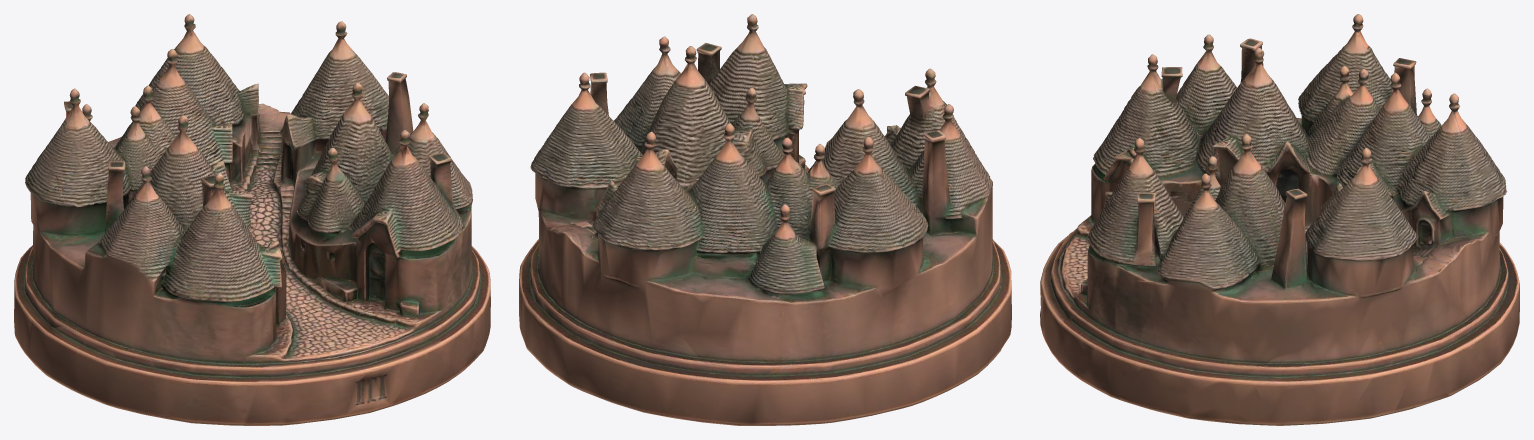
File: trulli.glb
The picture shows the model from 3 angles, left to right: view 1: azimuth 30°, elevation 25°; view 2: azimuth 150°, elevation 25°; view 3: azimuth 270°, elevation 25°; orthographic projection. The views are drawn at different scales.
Parts seen in each view (by area): view 1: Mesh_0; view 2: Mesh_0; view 3: Mesh_0.
Boxes of the visible parts, bbox=[...] form: Mesh_0: bbox=[14, 14, 490, 425]; Mesh_0: bbox=[519, 14, 1011, 425]; Mesh_0: bbox=[1040, 14, 1519, 425].
Bounding box in the file's own units: 1.91 × 1.08 × 1.91.
Materials: 1 (1 with a texture image).
